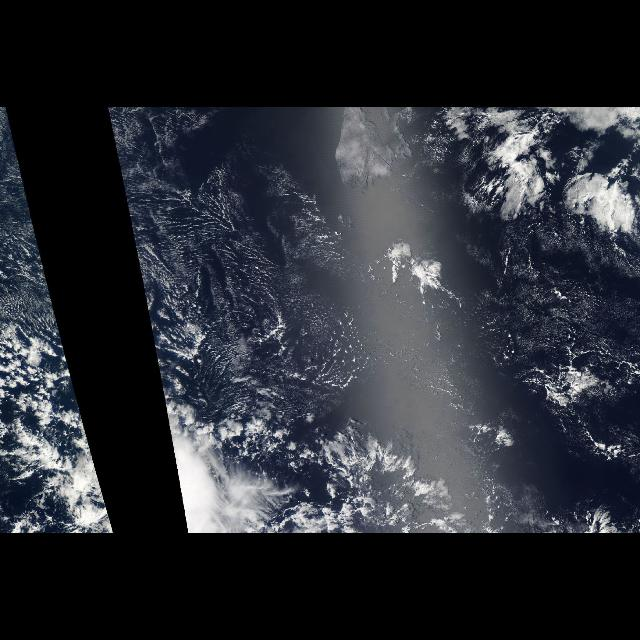Sugar: (108, 108, 392, 440), (0, 116, 81, 404), (478, 227, 640, 356)
